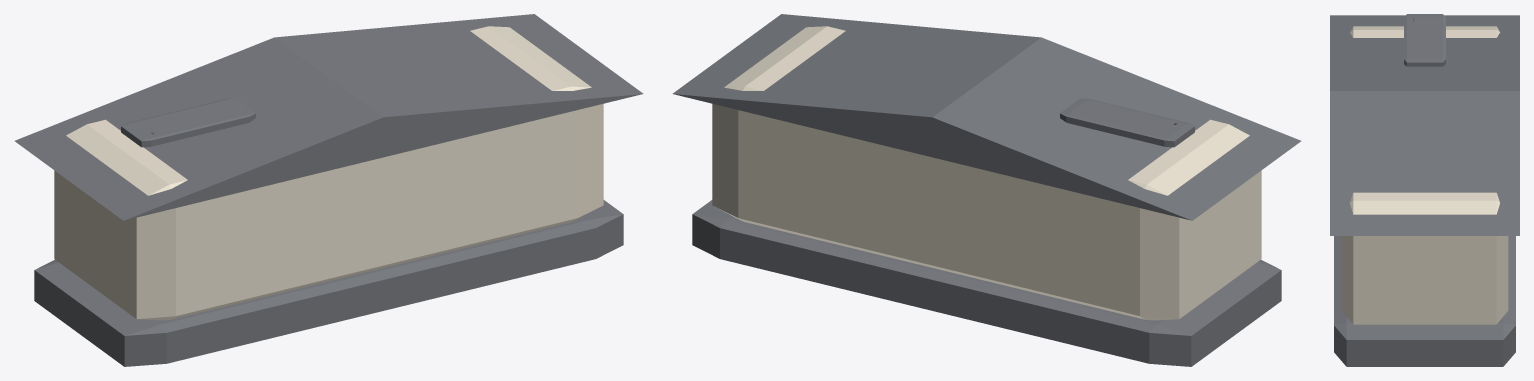
File: b11_freestanding_hammock_and_stand.glb
3 views of the same model, side by side, from view 1: azimuth 30°, elevation 25°; view 2: azimuth 150°, elevation 25°; view 3: azimuth 270°, elevation 25° (orthographic). The views are drawn at different scales.
Parts seen in each view (by area): view 1: b11_freestanding_hammock_and_stand; view 2: b11_freestanding_hammock_and_stand; view 3: b11_freestanding_hammock_and_stand.
Boxes of the visible parts, x1,y1,x2,y2 form: b11_freestanding_hammock_and_stand: [15, 14, 643, 366]; b11_freestanding_hammock_and_stand: [672, 14, 1300, 366]; b11_freestanding_hammock_and_stand: [1330, 14, 1519, 366].
Size of the model in its own units: 3.41 by 1.24 by 1.24.
